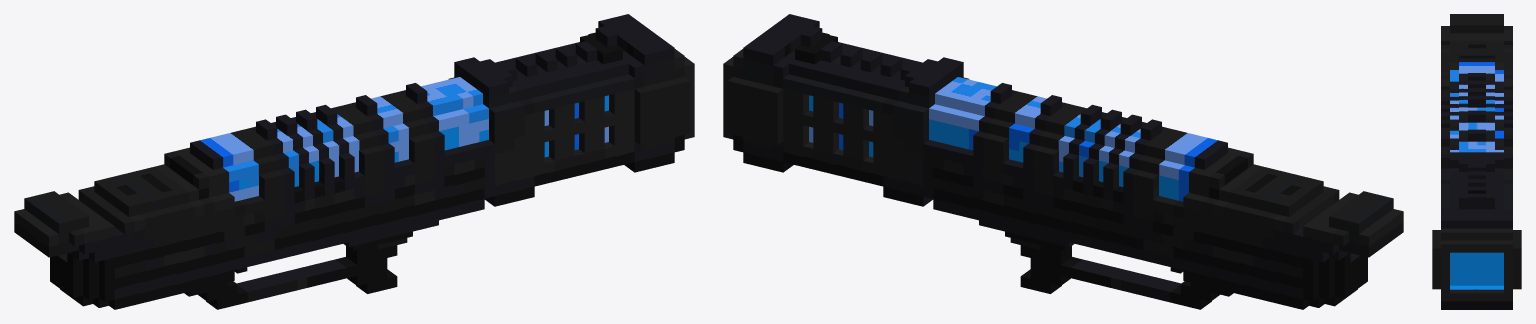
Rendered from plasmagun4.obj.
The picture shows the model from 3 angles, left to right: view 1: azimuth 30°, elevation 25°; view 2: azimuth 150°, elevation 25°; view 3: azimuth 270°, elevation 25°; orthographic projection. The views are drawn at different scales.
Parts seen in each view (by area): view 1: plasmagun4-optimized_plasmagun4.001; view 2: plasmagun4-optimized_plasmagun4.001; view 3: plasmagun4-optimized_plasmagun4.001.
Part boxes in pixels (<box>): plasmagun4-optimized_plasmagun4.001: <box>14,14,694,309</box>; plasmagun4-optimized_plasmagun4.001: <box>723,14,1403,309</box>; plasmagun4-optimized_plasmagun4.001: <box>1432,14,1521,309</box>.
Bounding box in the file's own units: 122 × 36.1 × 19.
